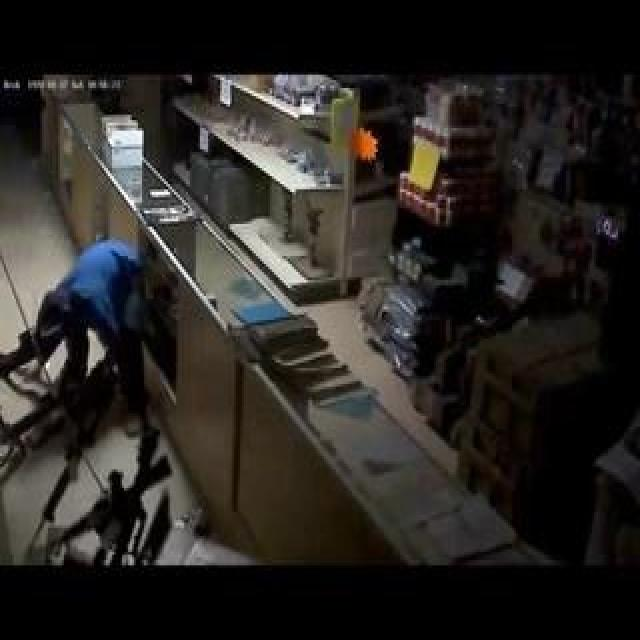thief: (37, 244, 169, 388)
